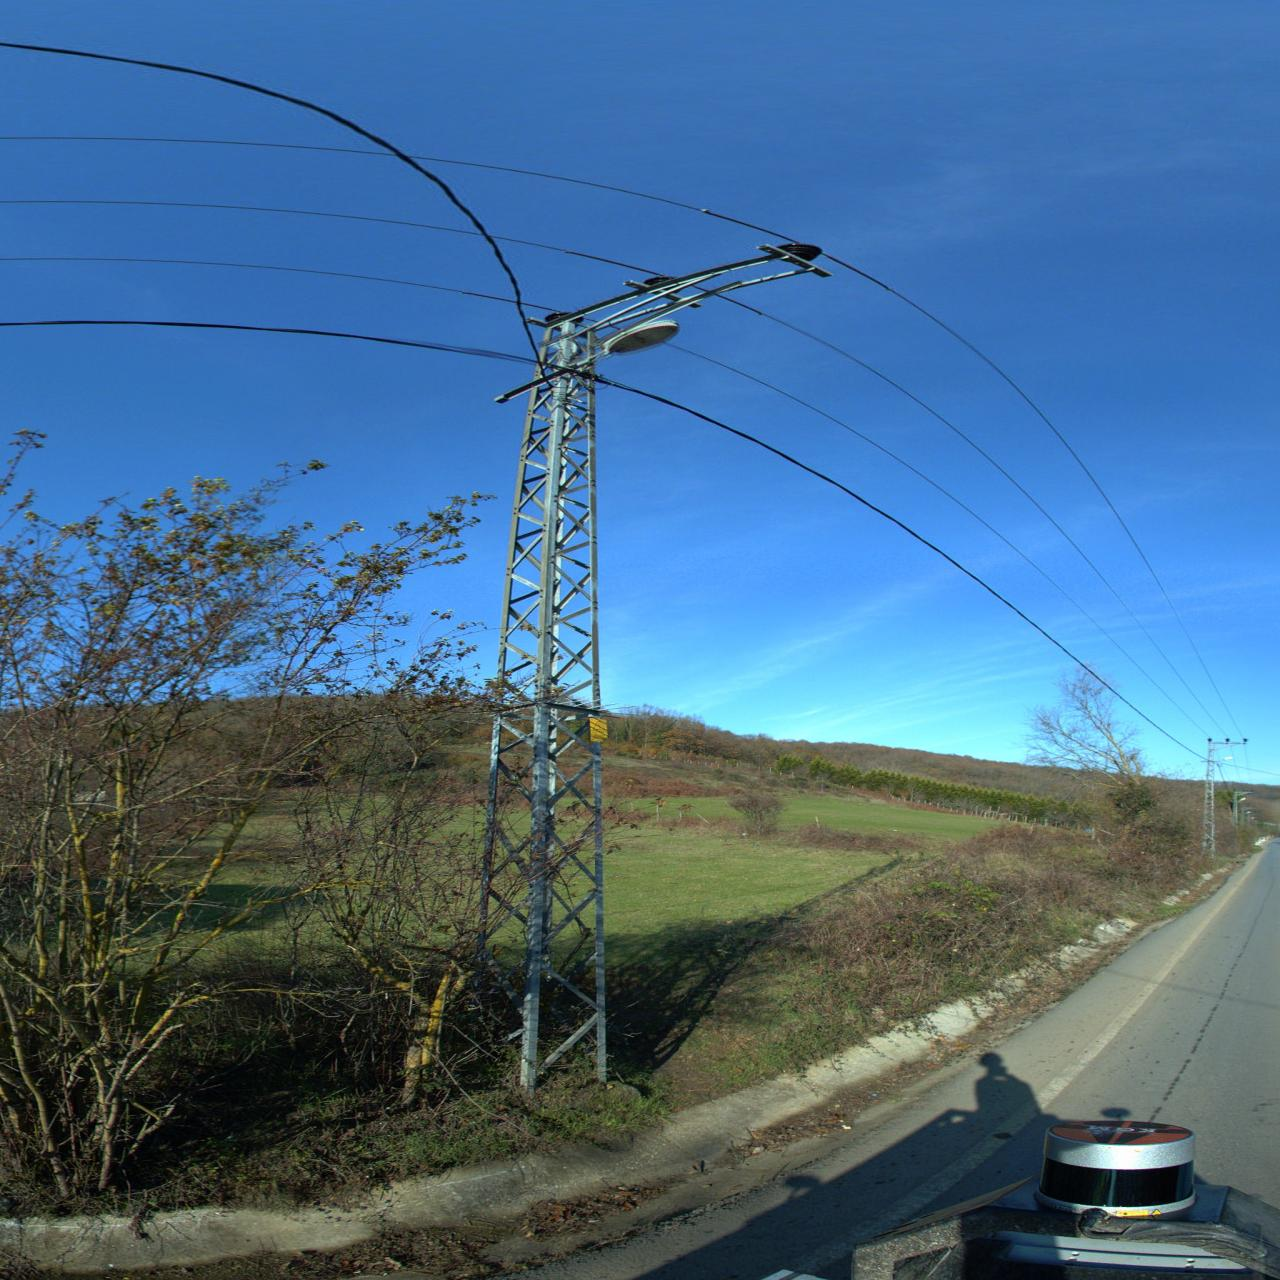Utility Pole Information Plate: (587, 716, 613, 744)
